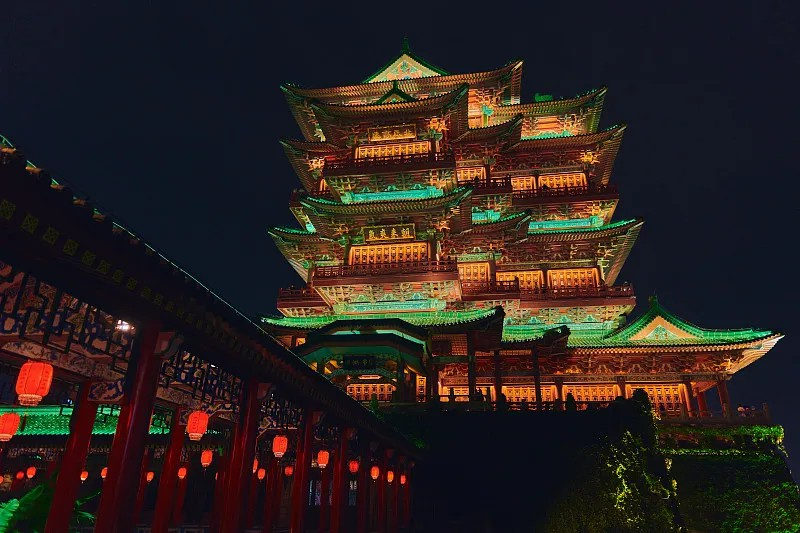Teng: (260, 38, 780, 424)
